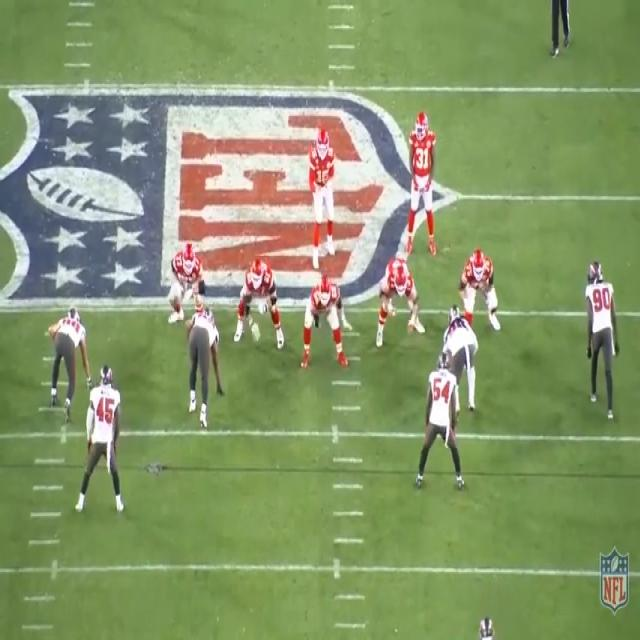players: (73, 370, 129, 516), (414, 352, 465, 493), (582, 268, 620, 422), (48, 307, 95, 424), (299, 278, 352, 374), (233, 258, 286, 352), (372, 256, 427, 346), (187, 306, 224, 432), (305, 129, 338, 268), (408, 111, 437, 259), (458, 248, 506, 336), (165, 244, 208, 335), (444, 305, 478, 414)
